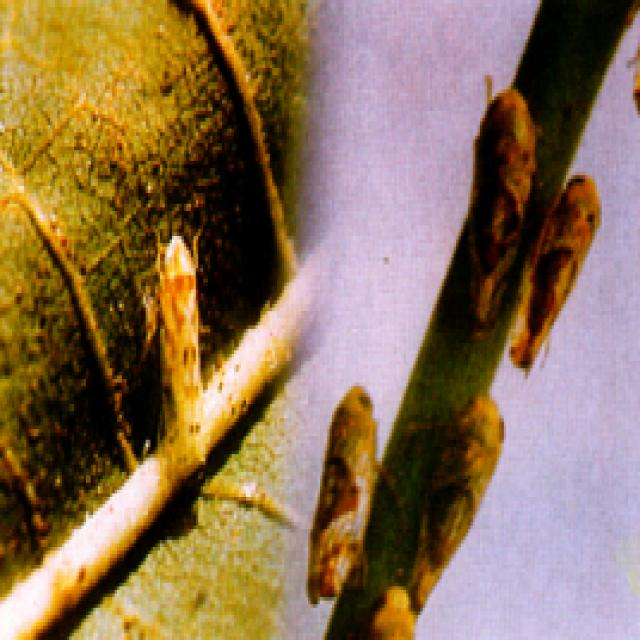Yechan: (408, 377, 510, 622), (142, 219, 225, 472), (304, 366, 379, 605), (471, 69, 538, 330)
